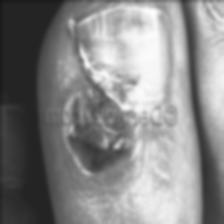Toxin: (67, 91, 128, 172)
